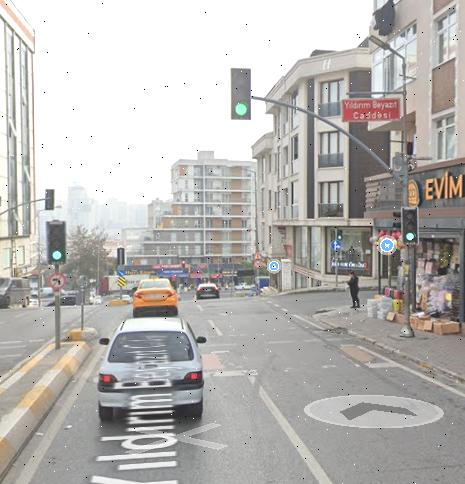greenlight: (232, 67, 252, 116), (48, 222, 65, 262), (401, 206, 418, 243)
leftturnsareforbidden: (50, 272, 66, 288)
